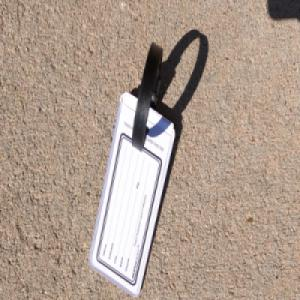LuggageTag: (87, 39, 176, 299)
